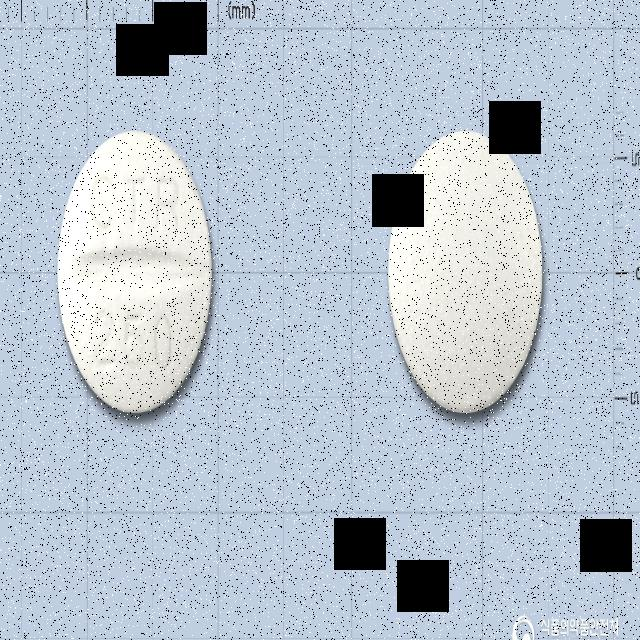Citro: (54, 127, 217, 418)
